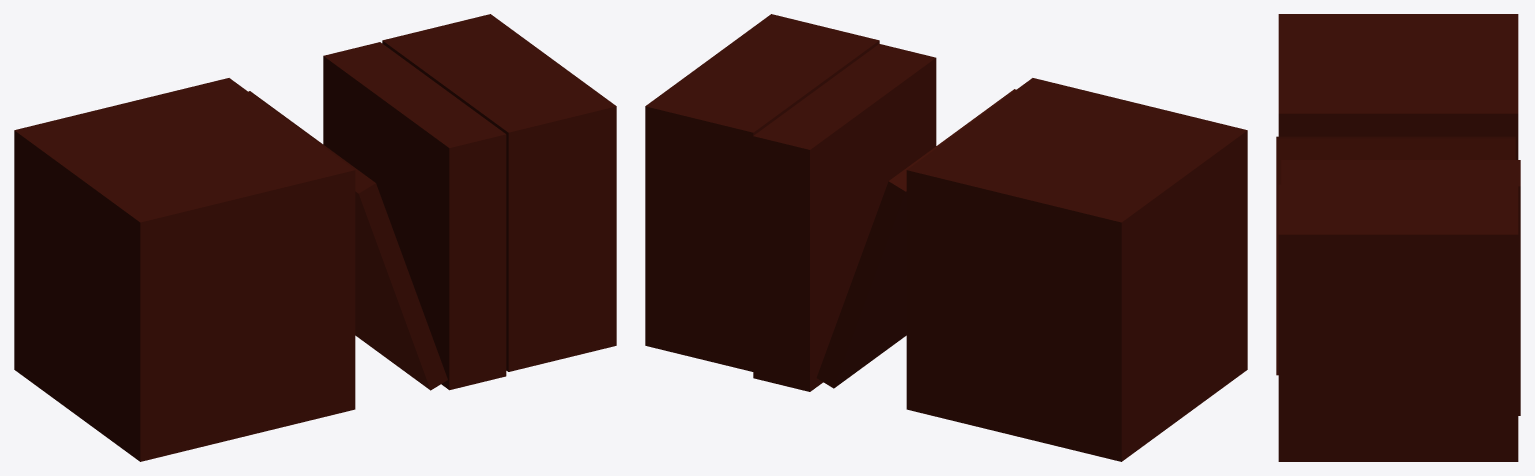
Rendered from VinylRecords.fbx.
3 renders of one model, left to right at view 1: azimuth 30°, elevation 25°; view 2: azimuth 150°, elevation 25°; view 3: azimuth 270°, elevation 25°, orthographic. The views are drawn at different scales.
Parts seen in each view (by area): view 1: VinylRecords; view 2: VinylRecords; view 3: VinylRecords.
Part boxes in pixels (x1,y1,x2,y2): VinylRecords: (14,14,616,461); VinylRecords: (645,14,1247,461); VinylRecords: (1276,14,1520,461).
Size of the model in its own units: 3.25 by 1.59 by 1.52.
